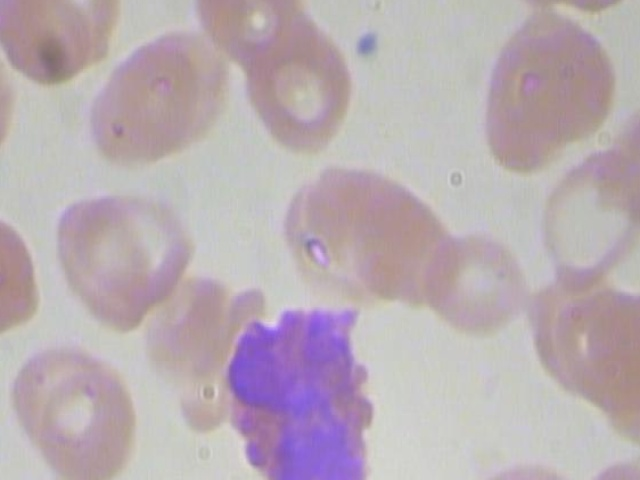Platelets: (346, 21, 391, 63)
RBC: (473, 0, 625, 188), (534, 140, 640, 297), (237, 16, 359, 152), (91, 36, 205, 172), (68, 192, 199, 310), (27, 365, 142, 480), (429, 230, 528, 337), (190, 0, 310, 80), (0, 0, 97, 94), (0, 209, 48, 348), (567, 457, 640, 480), (0, 30, 13, 156)
WBC: (192, 293, 406, 480)
